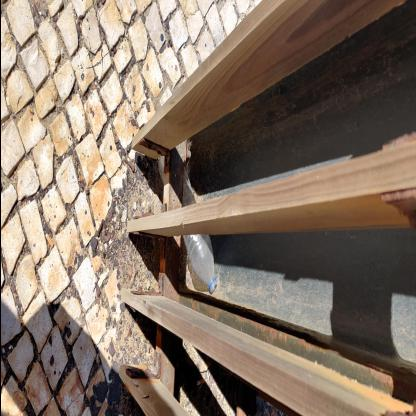plastik: (157, 152, 216, 293)
